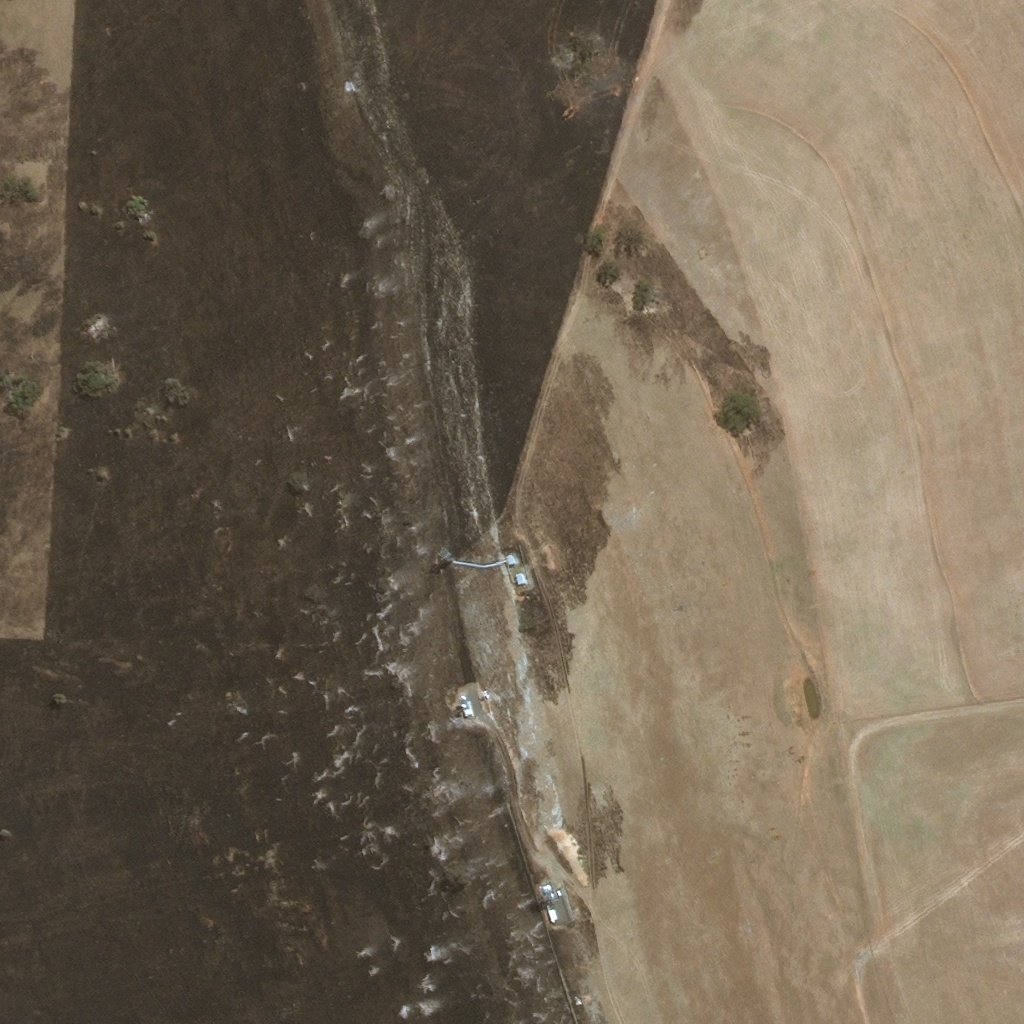0 no-damage: (550, 903, 561, 917), (517, 569, 528, 582), (507, 550, 518, 563), (545, 879, 554, 889)
